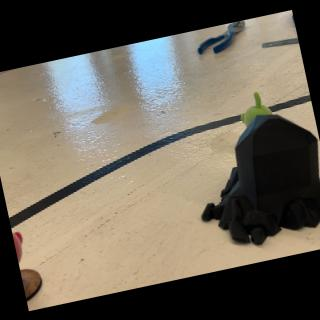teletubby: (240, 92, 272, 127), (12, 232, 22, 262)
